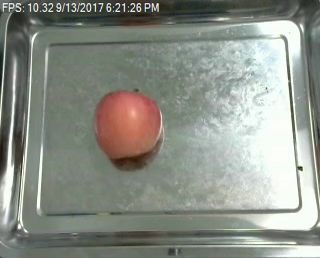Apple: (89, 86, 165, 163)
